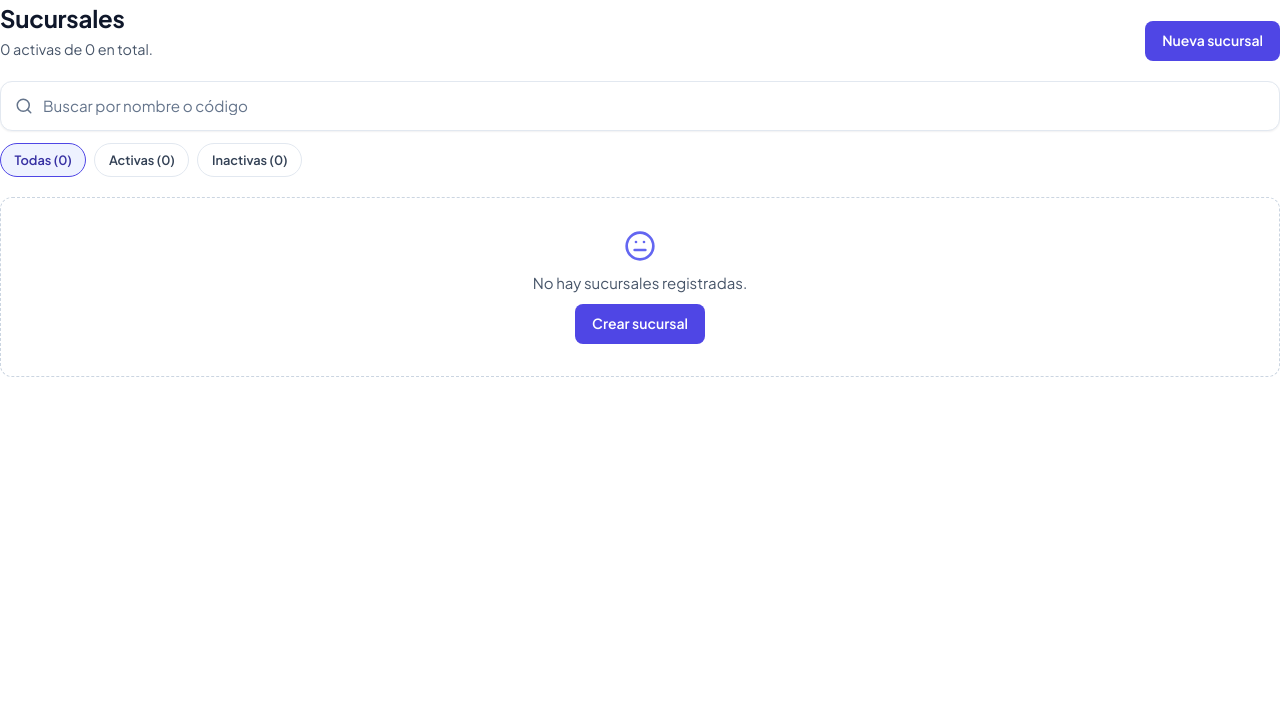
it: SucursalesPage: número de guardias › requiere un área válida antes de habilitar la creación
The width and height of the screenshot is (1280, 720).
Expected: the text "No hay sucursales registradas." is shown, [533, 272, 747, 294]
Click the button "Nueva sucursal" at (1213, 41), box [1145, 21, 1279, 61]
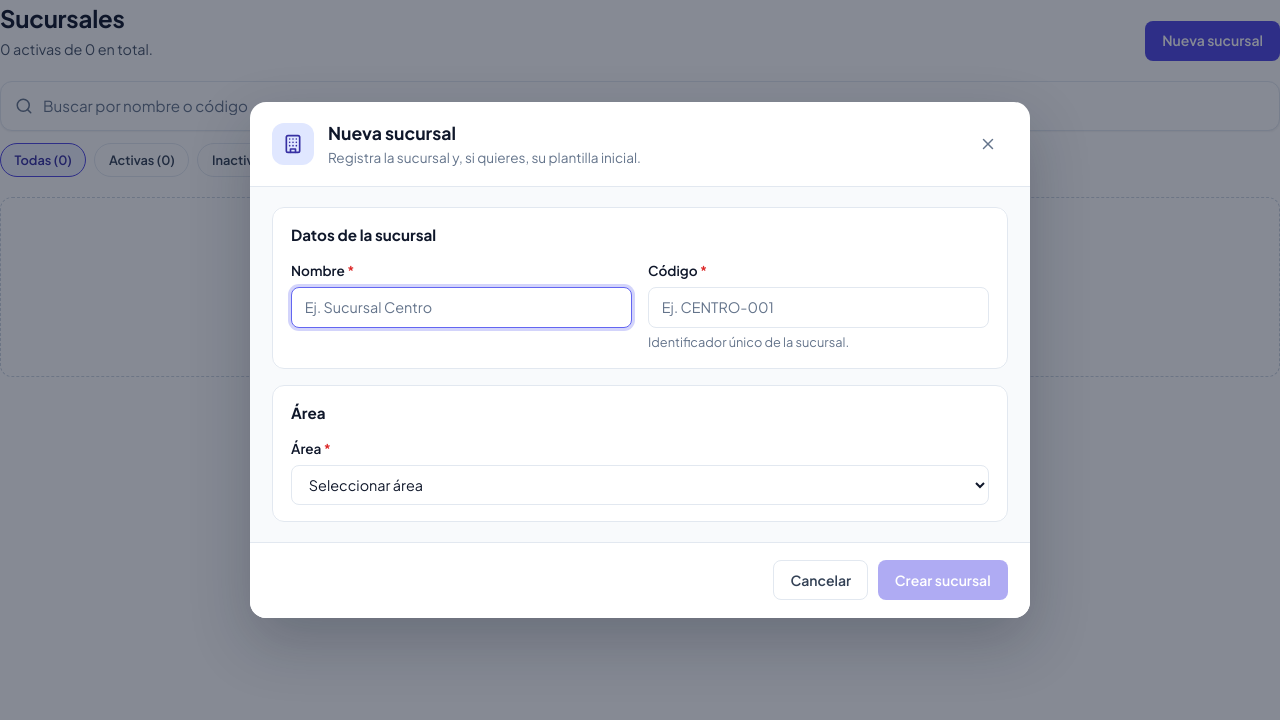
Result: the button "Crear sucursal" is disabled at [878, 560, 1008, 600]
